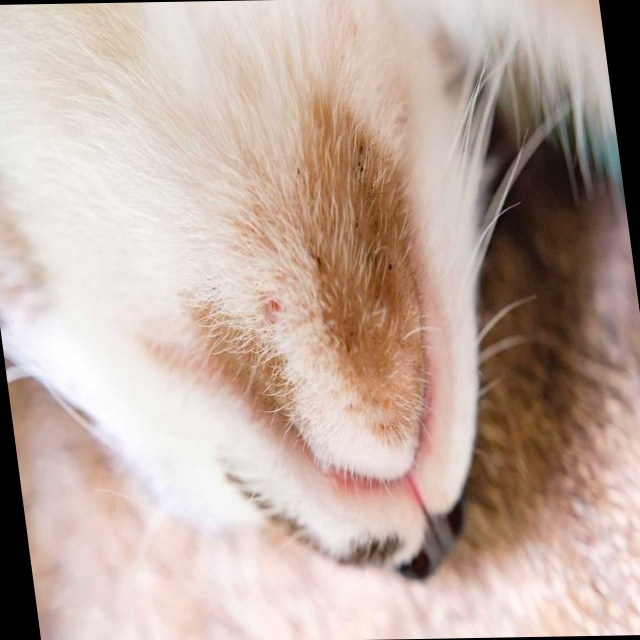acne: (275, 125, 428, 349)
